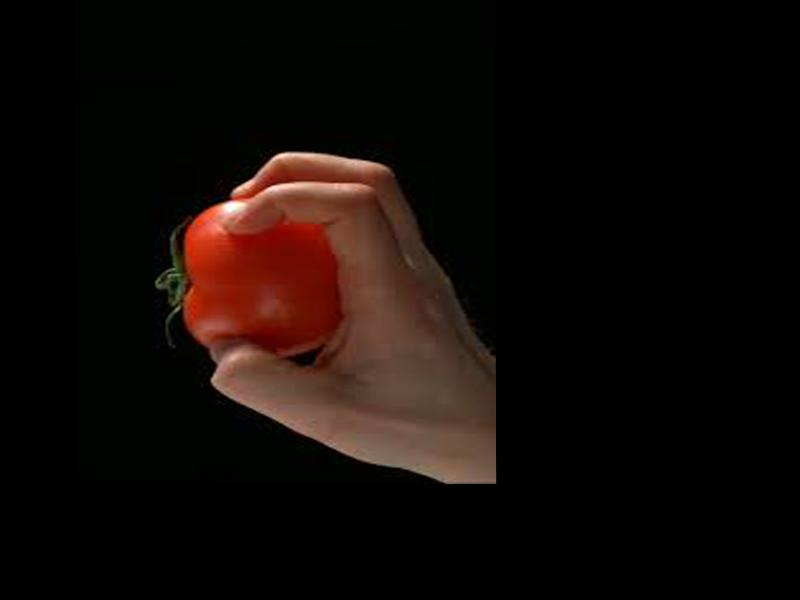Tomato: (157, 200, 336, 356)
